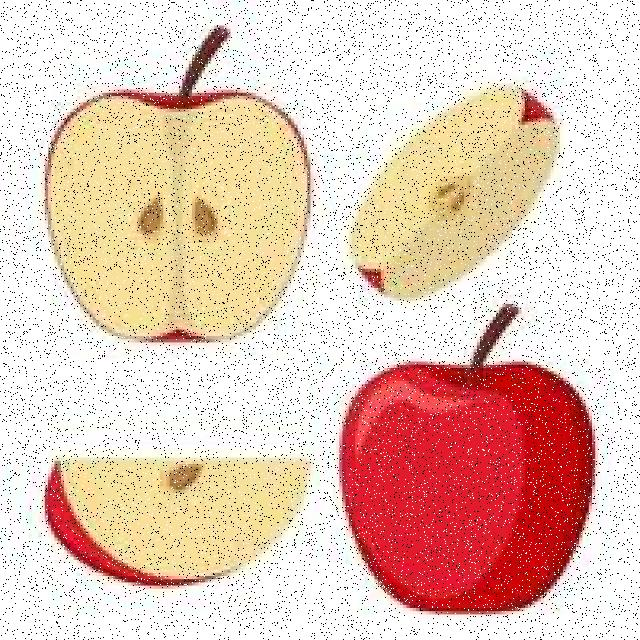Apple: (43, 28, 314, 343), (336, 308, 590, 612), (346, 85, 560, 296), (43, 447, 314, 588)
